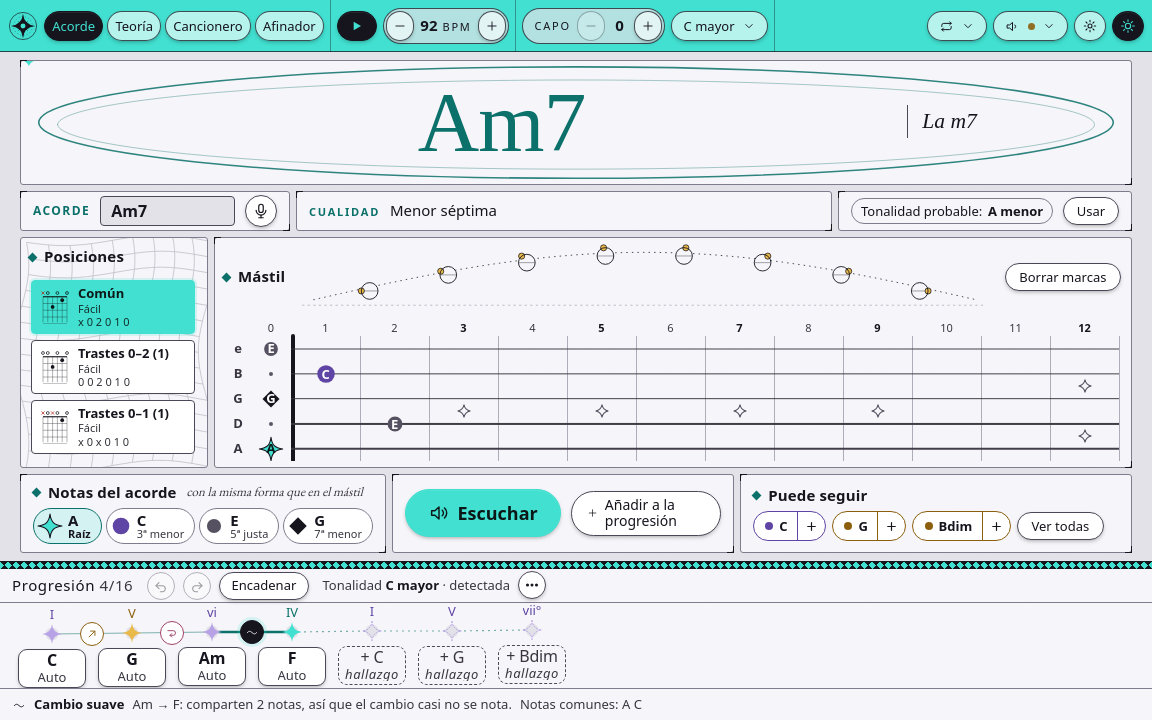
Test case: theme preference in Ajustes › credits the CC BY-SA guitar samples with links
This screenshot has width=1152, height=720.
Step 1. Click the button named "Ajustes" → (1090,26), box top-left (1074, 11), bottom-right (1106, 41)
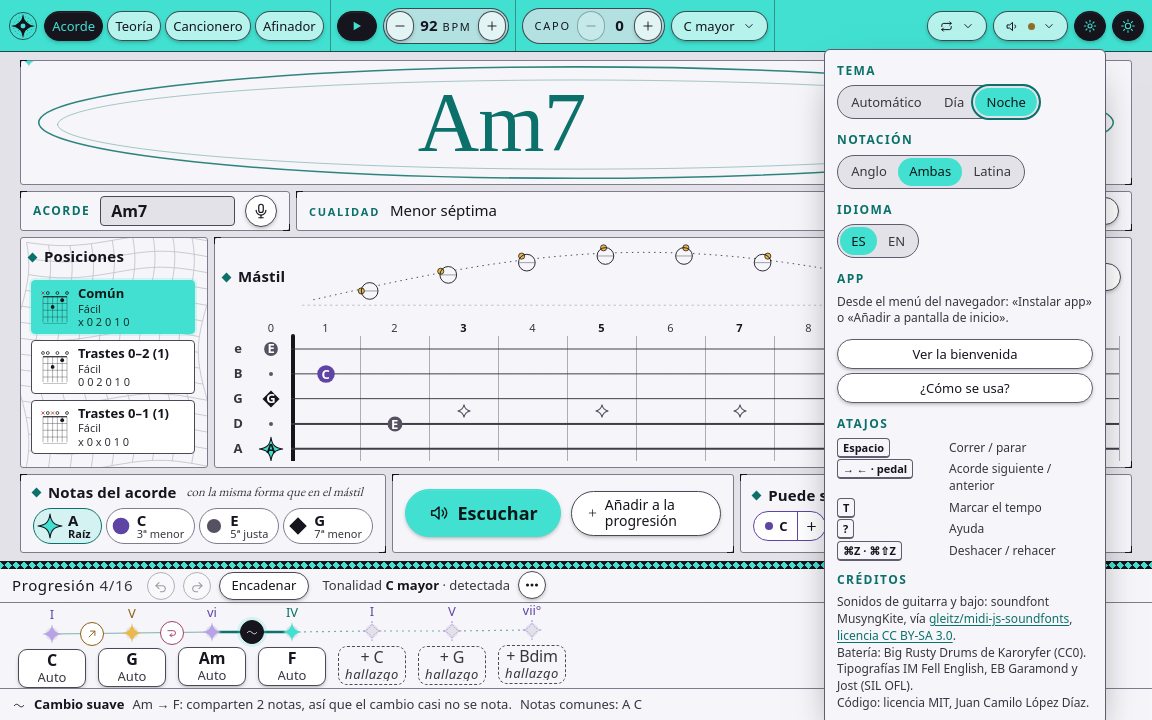
Result: the link "gleitz/midi-js-soundfonts" is shown at top-left (929, 610), bottom-right (1069, 627)
